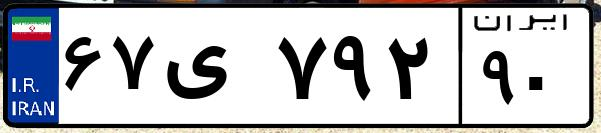0: (525, 38, 570, 115)
2: (385, 28, 445, 110)
6: (57, 26, 110, 100)
7: (270, 28, 330, 110), (110, 28, 158, 98)
9: (330, 28, 385, 110), (475, 38, 525, 113)
ی: (158, 20, 270, 120)
